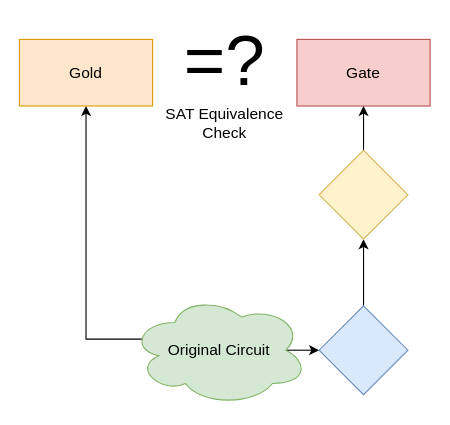
Some shapes in this 450 by 425 pixel diagram are drawn without their labels. The shapes that lost their labels are listed below. From the top down, each one's centre as x and y in pixels, then its label:
At (x=363, y=194): "Fault Injection".
At (x=363, y=350): "TaMaRa".
